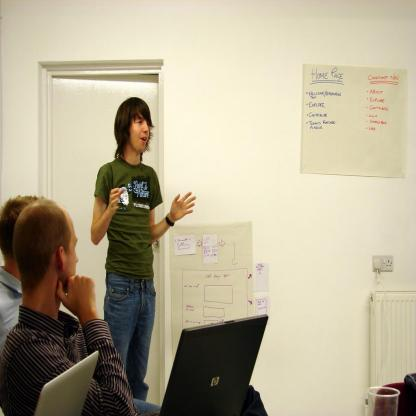board: (156, 310, 270, 416), (34, 351, 98, 416)
